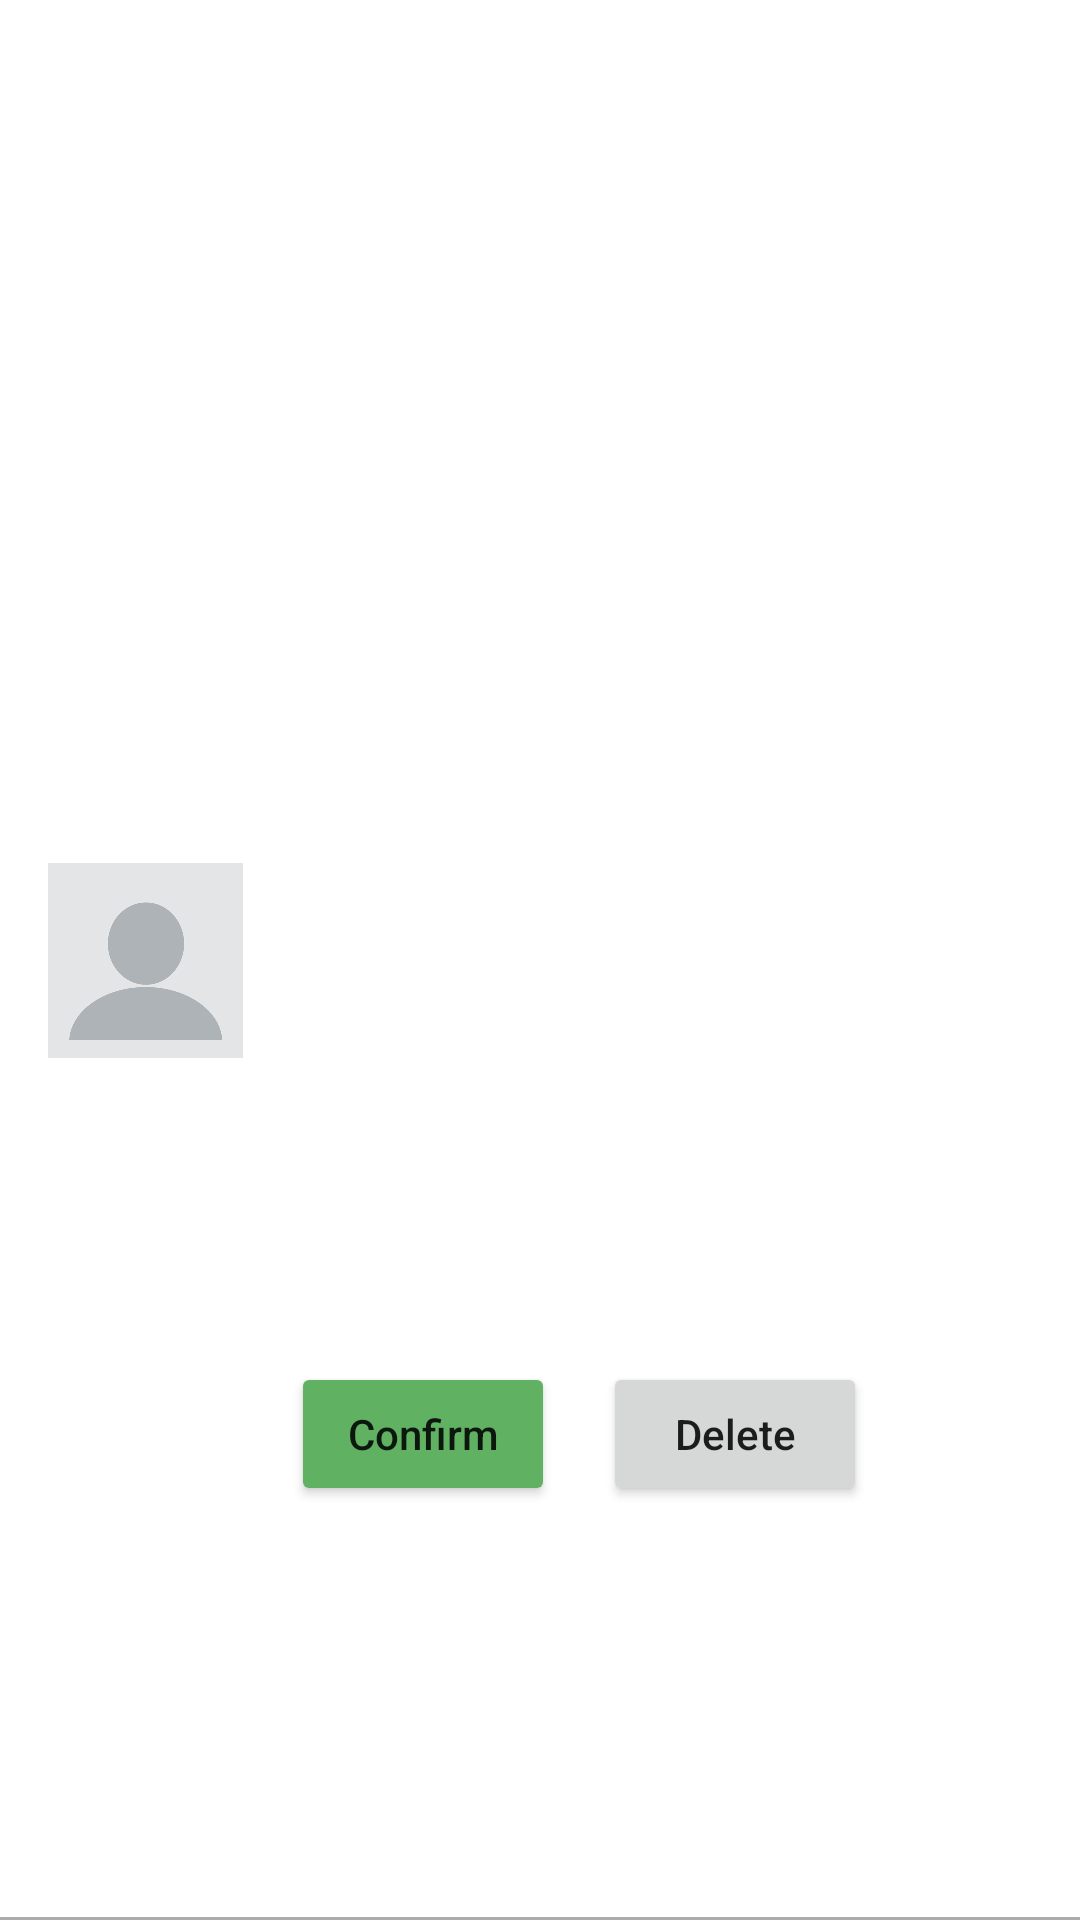

Screen size 1080 x 1920. Icon name, then its center in pixels as (x,y):
anonymous profile: (145,960)
